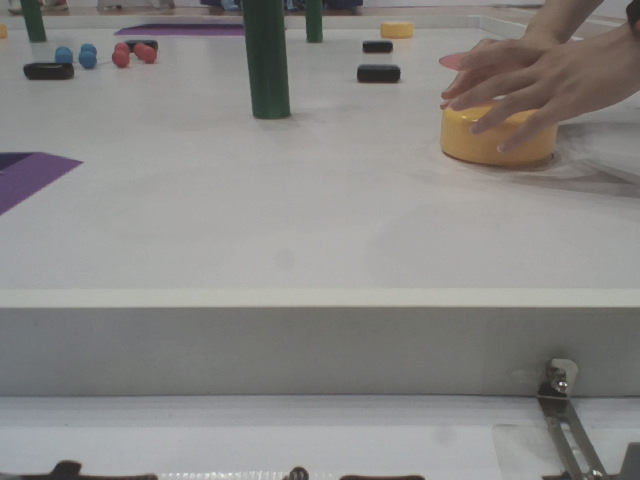black: (21, 60, 73, 86), (354, 64, 402, 81), (119, 37, 162, 53), (364, 41, 394, 53)
blue: (78, 50, 96, 66), (58, 44, 75, 57), (80, 43, 96, 55), (56, 52, 72, 62)
kuang: (1, 148, 90, 228), (115, 20, 289, 39)
red: (108, 50, 133, 69), (141, 46, 158, 59), (132, 45, 148, 55), (112, 43, 125, 53)
yellow: (437, 95, 567, 168), (378, 21, 418, 37)
zhuzi: (240, 1, 295, 119), (18, 1, 47, 43), (306, 1, 325, 44)
